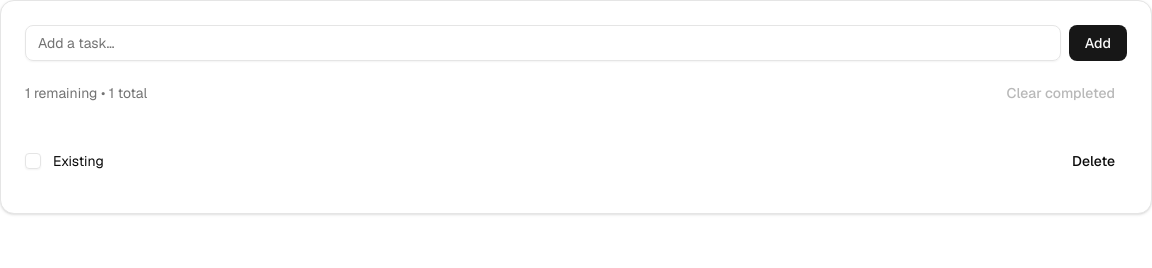
Test case: TodoApp › shows an error when deleting a task fails
The image size is (1152, 268).
Click the button named "Delete \"Existing\"": (1093, 161) [1060,145,1127,177]
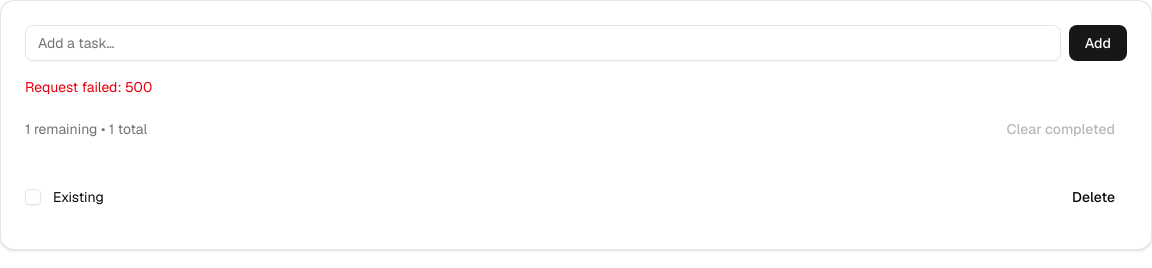
expect the message reads "Request failed: 500": met, box [25,78,152,96]
